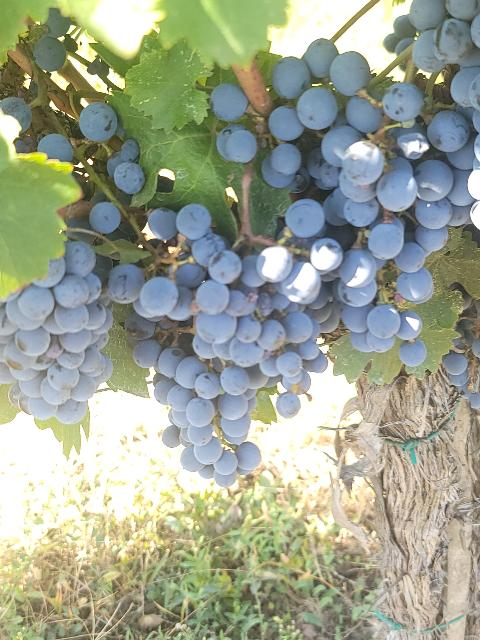grapes: (271, 40, 474, 364), (0, 241, 112, 425), (192, 246, 326, 391), (132, 338, 260, 486)
